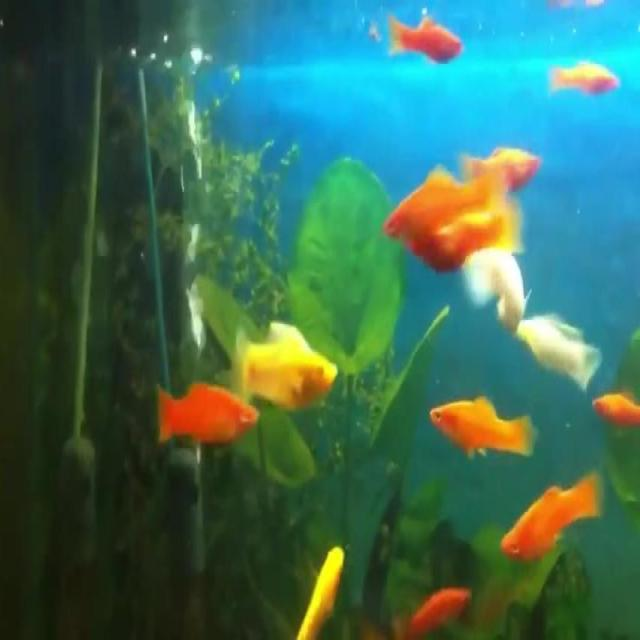PlatyFish: (229, 302, 346, 419), (383, 148, 516, 248), (416, 375, 546, 473), (494, 461, 609, 571), (146, 356, 260, 463), (379, 10, 468, 70)
